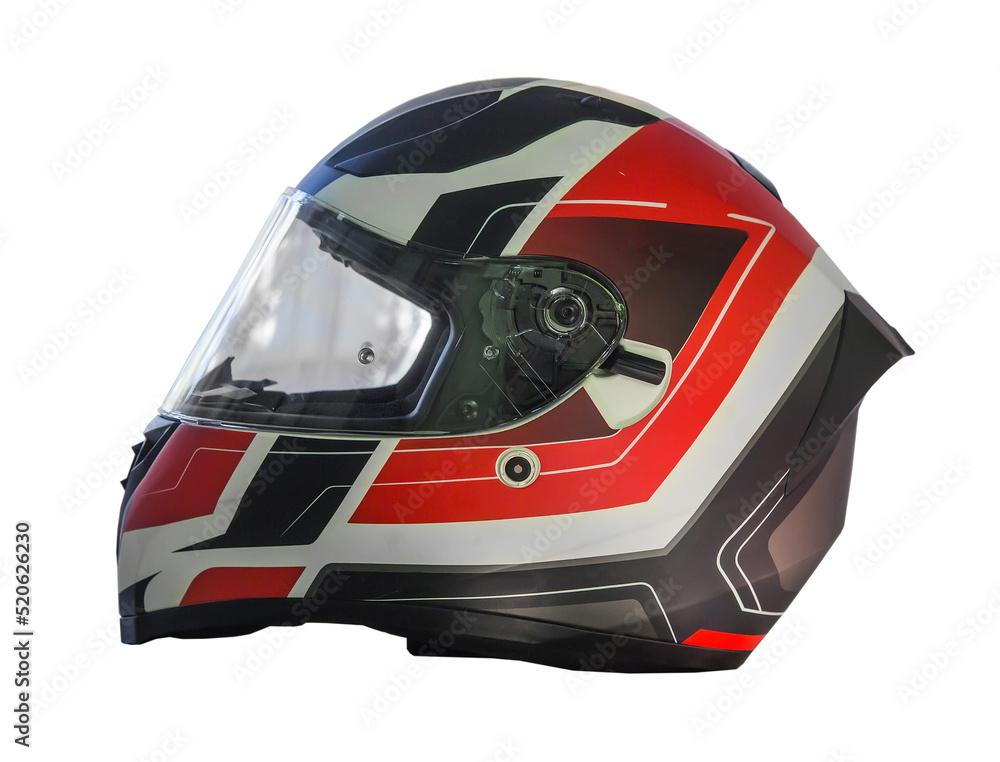helmet: (113, 73, 916, 676)
